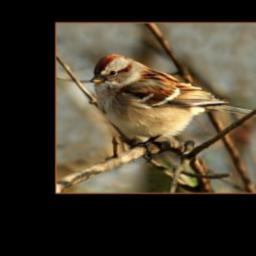Sparrow: (91, 53, 256, 165)
